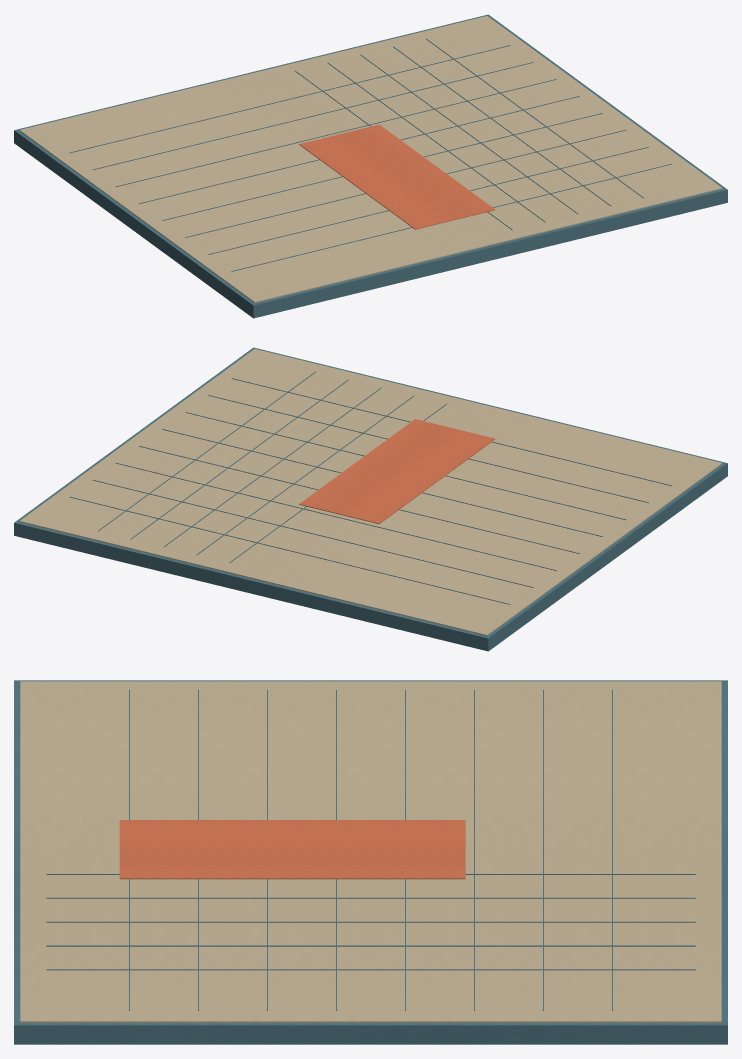
Rendered from atlas100-s041-a07.lod2.glb.
3 renders of one model, top to bottom at view 1: azimuth 30°, elevation 25°; view 2: azimuth 150°, elevation 25°; view 3: azimuth 270°, elevation 25°, orthographic. The views are drawn at different scales.
Parts seen in each view (by area): view 1: atlas100-s041-a07:part-001, atlas100-s041-a07:part-000, atlas100-s041-a07:part-021, atlas100-s041-a07:part-013, atlas100-s041-a07:part-014, atlas100-s041-a07:part-015, atlas100-s041-a07:part-020, atlas100-s041-a07:part-018, atlas100-s041-a07:part-019, atlas100-s041-a07:part-017, atlas100-s041-a07:part-016; view 2: atlas100-s041-a07:part-001, atlas100-s041-a07:part-000, atlas100-s041-a07:part-021, atlas100-s041-a07:part-013, atlas100-s041-a07:part-014, atlas100-s041-a07:part-015, atlas100-s041-a07:part-019, atlas100-s041-a07:part-020, atlas100-s041-a07:part-016, atlas100-s041-a07:part-018, atlas100-s041-a07:part-017; view 3: atlas100-s041-a07:part-001, atlas100-s041-a07:part-000, atlas100-s041-a07:part-021, atlas100-s041-a07:part-010, atlas100-s041-a07:part-011, atlas100-s041-a07:part-012, atlas100-s041-a07:part-009.
Boxes of the visible parts, left/top/right/bottom form: atlas100-s041-a07:part-001: left=19, top=16, right=722, bottom=302; atlas100-s041-a07:part-000: left=14, top=14, right=727, bottom=318; atlas100-s041-a07:part-021: left=299, top=124, right=495, bottom=229; atlas100-s041-a07:part-013: left=70, top=45, right=510, bottom=152; atlas100-s041-a07:part-014: left=93, top=62, right=533, bottom=169; atlas100-s041-a07:part-015: left=115, top=79, right=556, bottom=186; atlas100-s041-a07:part-020: left=231, top=164, right=671, bottom=271; atlas100-s041-a07:part-018: left=185, top=130, right=626, bottom=237; atlas100-s041-a07:part-019: left=208, top=147, right=648, bottom=254; atlas100-s041-a07:part-017: left=162, top=113, right=602, bottom=220; atlas100-s041-a07:part-016: left=139, top=96, right=579, bottom=203; atlas100-s041-a07:part-001: left=19, top=349, right=722, bottom=635; atlas100-s041-a07:part-000: left=14, top=347, right=727, bottom=651; atlas100-s041-a07:part-021: left=299, top=419, right=494, bottom=523; atlas100-s041-a07:part-013: left=70, top=497, right=510, bottom=604; atlas100-s041-a07:part-014: left=93, top=480, right=533, bottom=587; atlas100-s041-a07:part-015: left=115, top=463, right=556, bottom=570; atlas100-s041-a07:part-019: left=208, top=395, right=648, bottom=502; atlas100-s041-a07:part-020: left=231, top=378, right=671, bottom=485; atlas100-s041-a07:part-016: left=139, top=446, right=579, bottom=553; atlas100-s041-a07:part-018: left=185, top=412, right=626, bottom=519; atlas100-s041-a07:part-017: left=162, top=429, right=602, bottom=536; atlas100-s041-a07:part-001: left=20, top=681, right=721, bottom=1022; atlas100-s041-a07:part-000: left=14, top=680, right=727, bottom=1044; atlas100-s041-a07:part-021: left=119, top=820, right=465, bottom=879; atlas100-s041-a07:part-010: left=46, top=921, right=695, bottom=922; atlas100-s041-a07:part-011: left=46, top=945, right=695, bottom=946; atlas100-s041-a07:part-012: left=46, top=969, right=695, bottom=970; atlas100-s041-a07:part-009: left=46, top=897, right=695, bottom=898.
Size of the model in its own units: 13.02 by 0.404 by 11.39.
3 materials, 3 textured.
